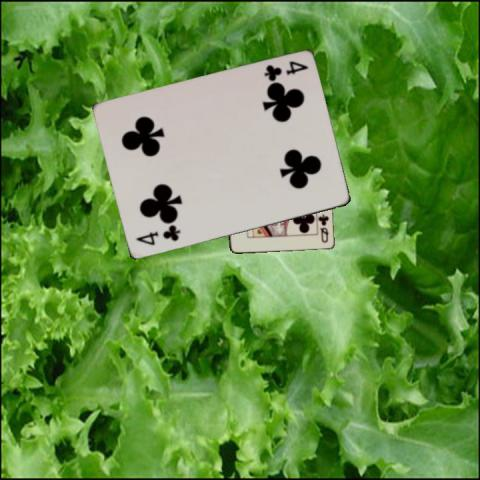4c: (133, 223, 181, 248), (262, 58, 310, 83)
Qc: (315, 211, 330, 244)
